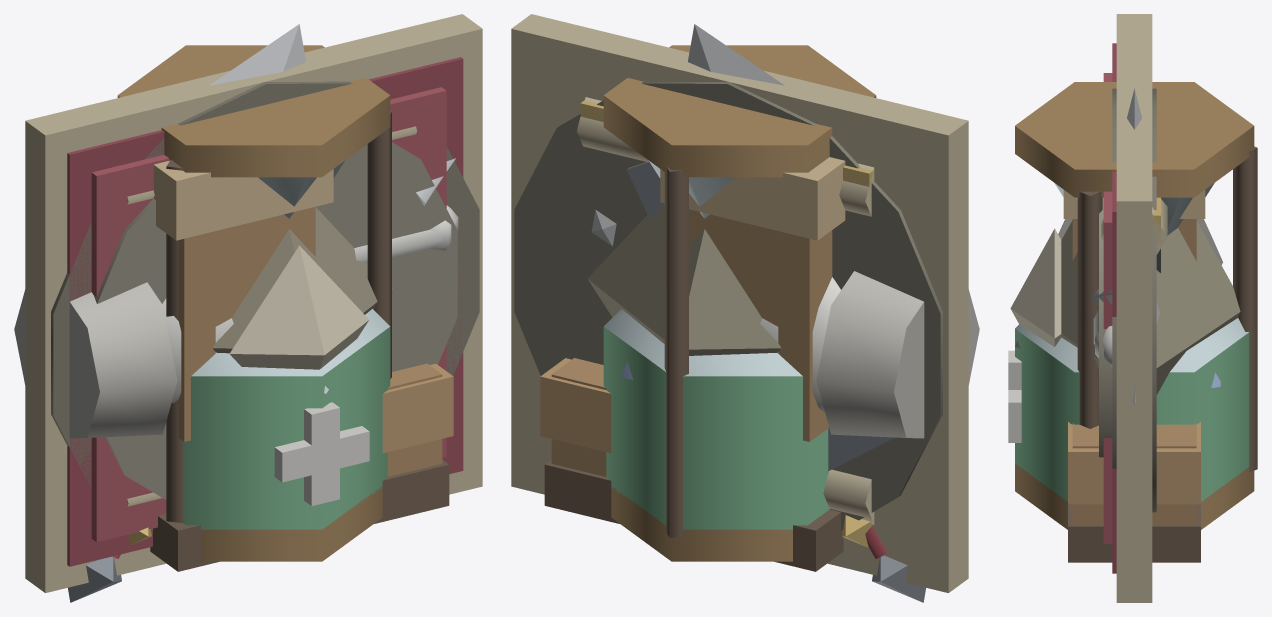
Rendered from menu-models.glb.
3 views of the same model, side by side, from view 1: azimuth 30°, elevation 25°; view 2: azimuth 150°, elevation 25°; view 3: azimuth 270°, elevation 25° (orthographic). The views are drawn at different scales.
Parts seen in each view (by area): view 1: tile, potion, hourglass, disc, boot, glove, gem, axe, dagger, scroll; view 2: tile, disc, potion, hourglass, boot, glove, gem, scroll, axe, dagger, shield, sword; view 3: hourglass, tile, potion, gem, boot, disc, glove, axe, scroll.
Part boxes in pixels (x1=…): tile: x1=25, y1=14, x2=482, y2=592; potion: x1=183, y1=309, x2=390, y2=529; hourglass: x1=117, y1=45, x2=391, y2=561; disc: x1=51, y1=81, x2=479, y2=530; boot: x1=150, y1=160, x2=453, y2=571; glove: x1=14, y1=205, x2=458, y2=438; gem: x1=212, y1=207, x2=392, y2=369; axe: x1=209, y1=24, x2=305, y2=85; dagger: x1=68, y1=554, x2=121, y2=602; scroll: x1=127, y1=126, x2=416, y2=506; tile: x1=511, y1=14, x2=968, y2=592; disc: x1=514, y1=81, x2=942, y2=530; potion: x1=603, y1=309, x2=829, y2=529; hourglass: x1=603, y1=45, x2=876, y2=561; boot: x1=540, y1=157, x2=845, y2=571; glove: x1=760, y1=271, x2=979, y2=438; gem: x1=587, y1=205, x2=781, y2=355; scroll: x1=577, y1=97, x2=874, y2=524; axe: x1=591, y1=24, x2=784, y2=246; dagger: x1=828, y1=428, x2=925, y2=602; shield: x1=580, y1=100, x2=874, y2=204; sword: x1=842, y1=515, x2=872, y2=547; hourglass: x1=1015, y1=82, x2=1257, y2=529; tile: x1=1103, y1=14, x2=1152, y2=602; potion: x1=1008, y1=318, x2=1249, y2=501; gem: x1=1010, y1=220, x2=1240, y2=394; boot: x1=1063, y1=190, x2=1205, y2=562; disc: x1=1099, y1=88, x2=1156, y2=512; glove: x1=1058, y1=219, x2=1222, y2=367; axe: x1=1127, y1=88, x2=1160, y2=405; scroll: x1=1101, y1=199, x2=1167, y2=254.
Bounding box in the file's own units: 1.01 × 1.14 × 0.563.
